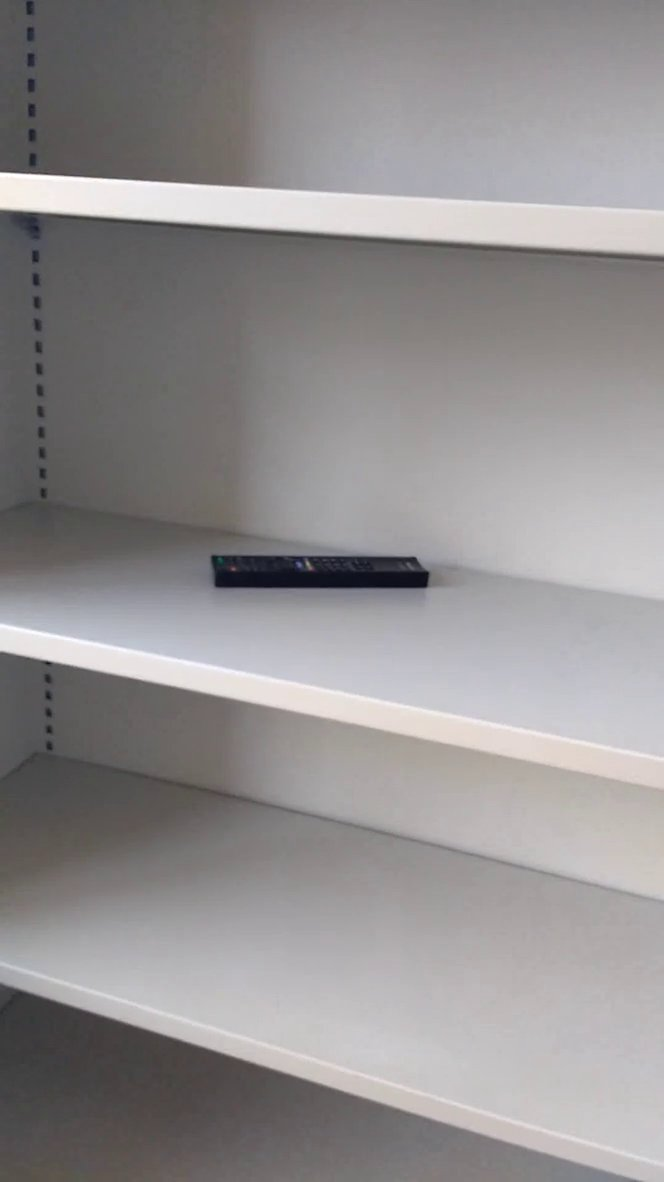remote: (203, 533, 438, 603)
